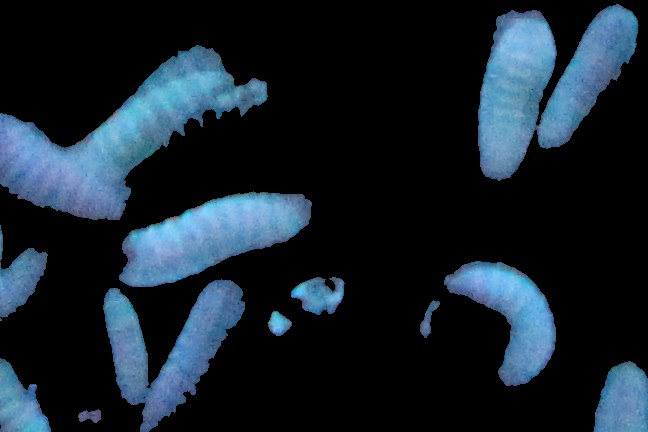larvae: (121, 189, 316, 289), (79, 71, 239, 177), (1, 95, 127, 226), (535, 6, 641, 152), (447, 255, 564, 387), (464, 15, 555, 178), (147, 289, 244, 415), (107, 295, 150, 409)
